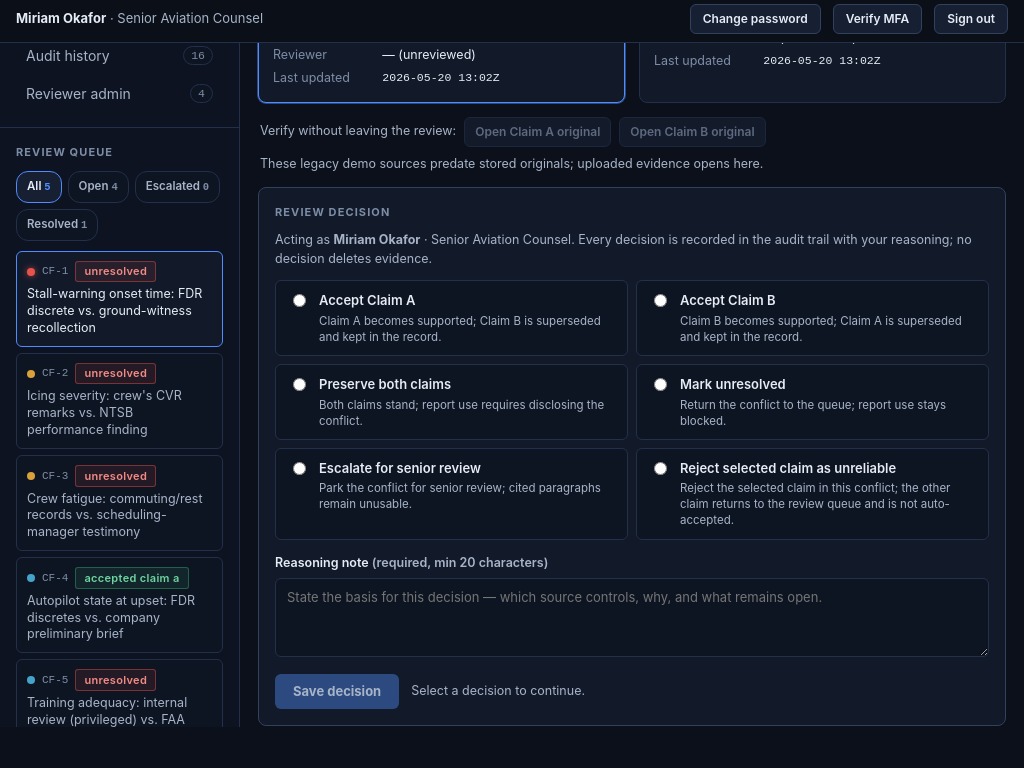
it: server mode › steps up from a decision without losing the draft
(page scrolled)
Click the radio button labelled "Preserve both claims" at x=300, y=384, box [293,378,306,391]
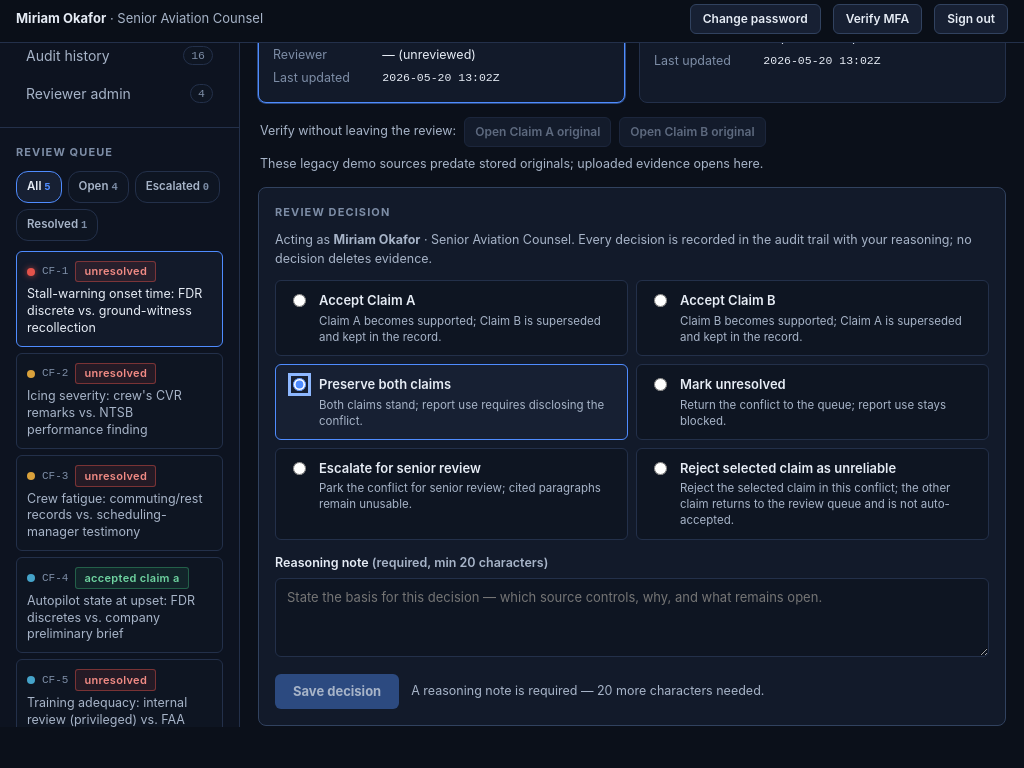
Type "Preserve both accounts while counsel reconciles the timing evidence." into the text box labelled "Reasoning note (required, min 20 characters)" at x=632, y=618, box [275,578,989,657]
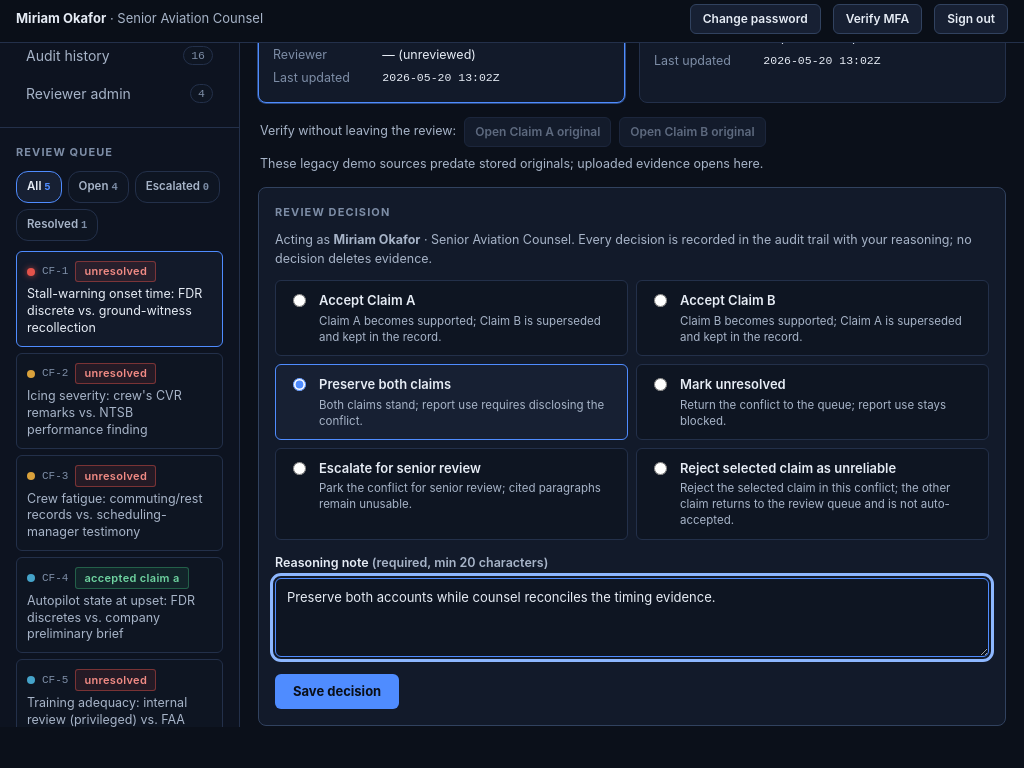
Click the button "Save decision" at x=337, y=692, box [275,674,399,709]
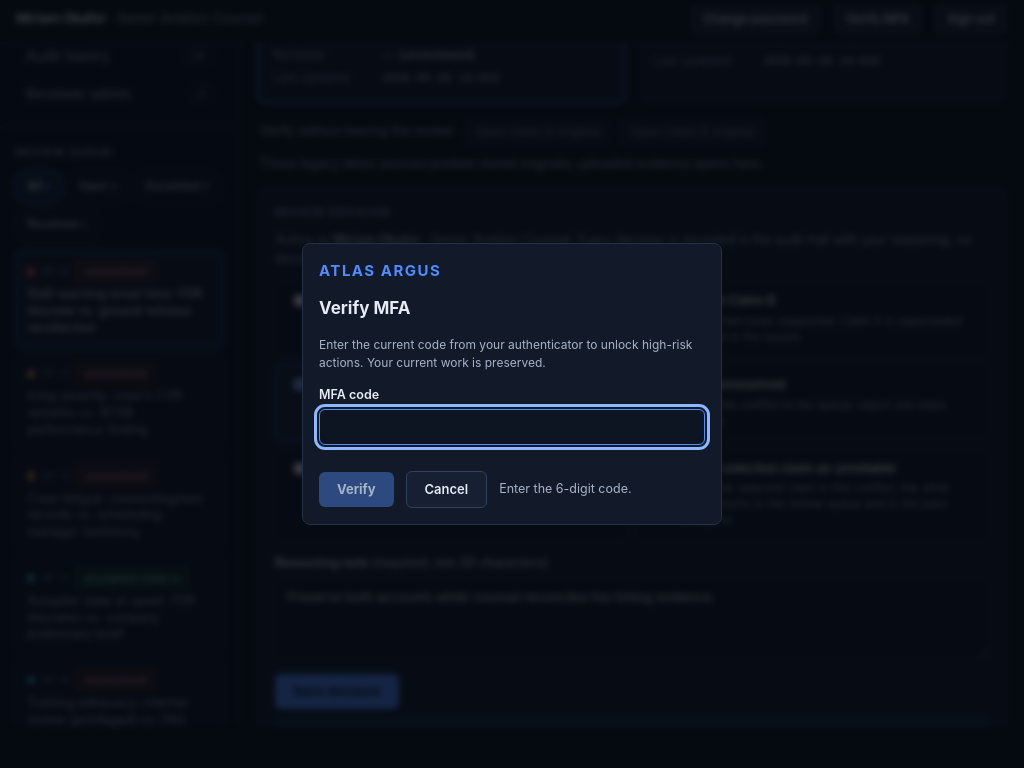
Now the heading "Verify MFA" is shown, box [319,298,410,318]
Type "123456" into the field labelled "MFA code" at x=512, y=427, box [319,409,705,445]
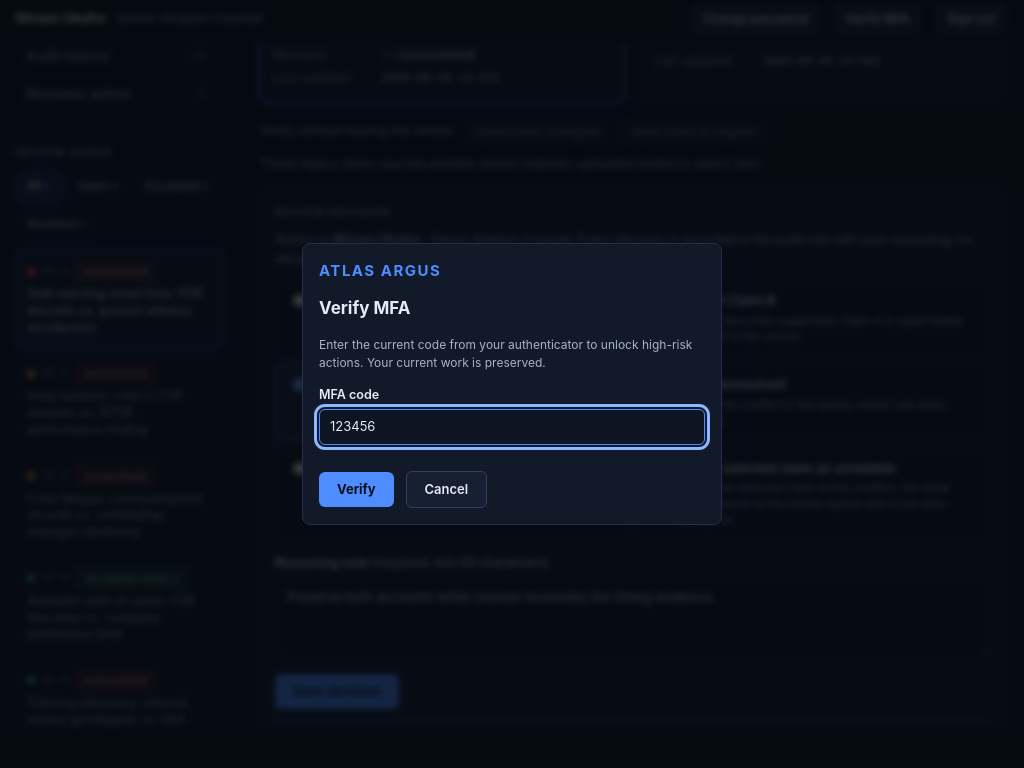
Click the button "Verify" at x=356, y=490, box [319,472,394,507]
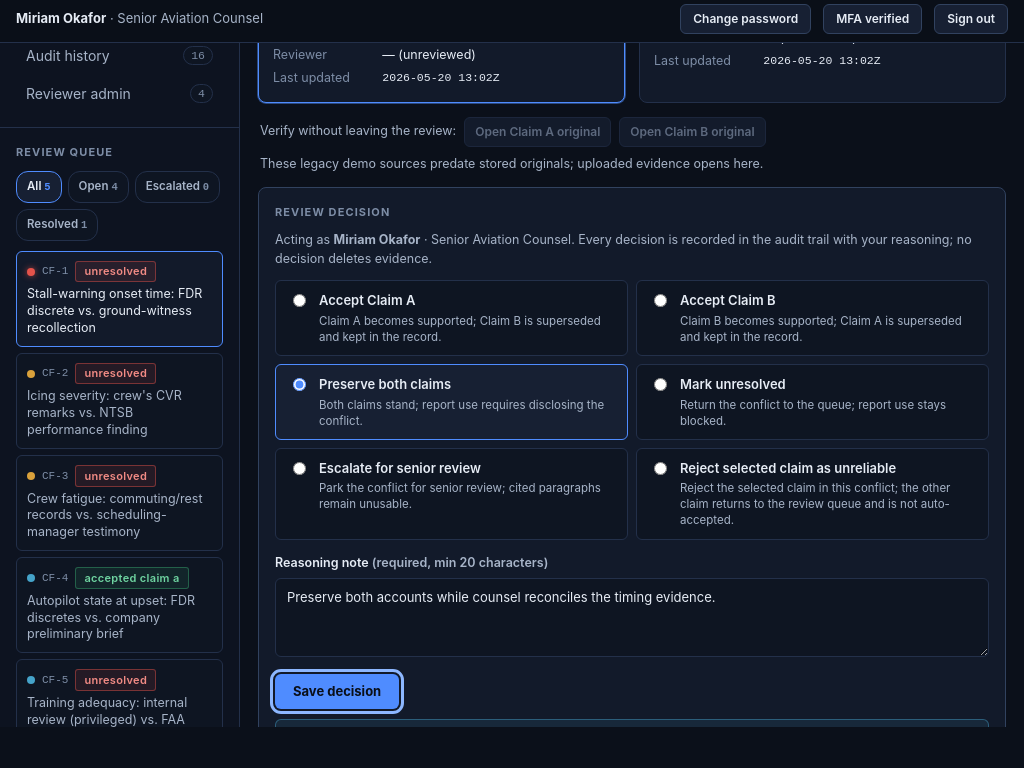
Now the button "Verify MFA" is gone
Click the button "Save decision" at x=337, y=692, box [275,674,399,709]
(page scrolled)
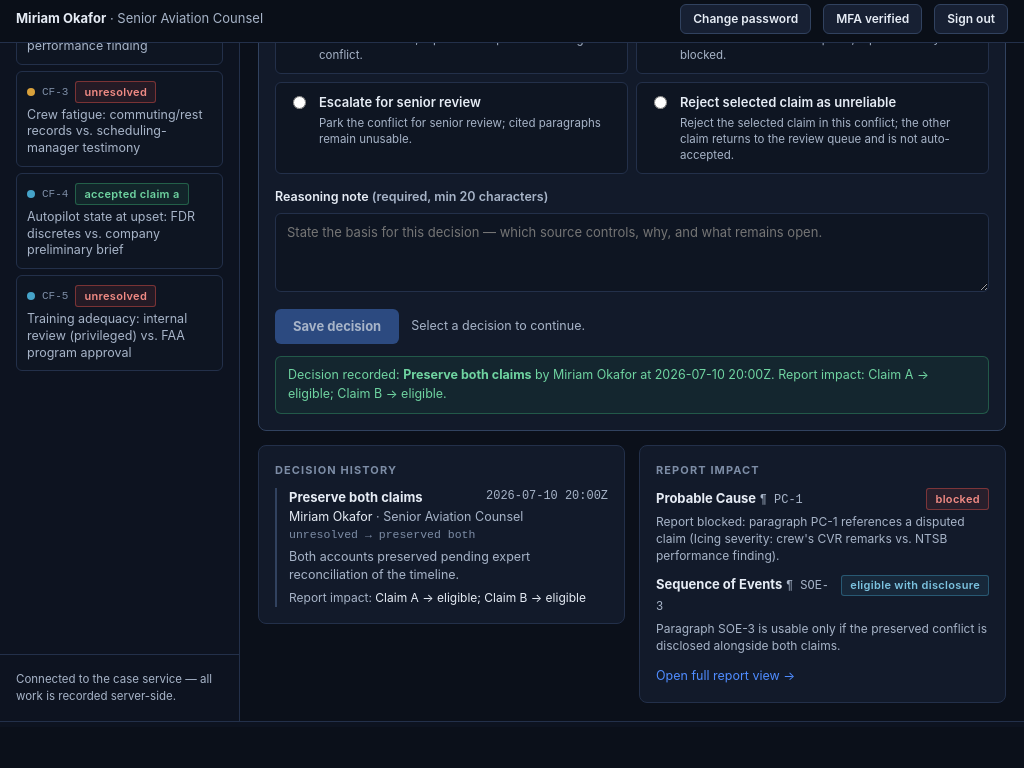
Now the message shows "Decision recorded:", box [288,367,403,382]
